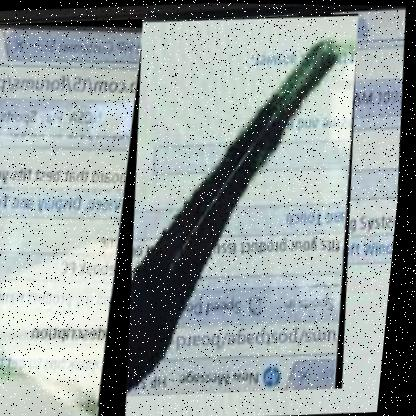crack: (50, 9, 379, 402)
fade: (0, 16, 166, 415)
